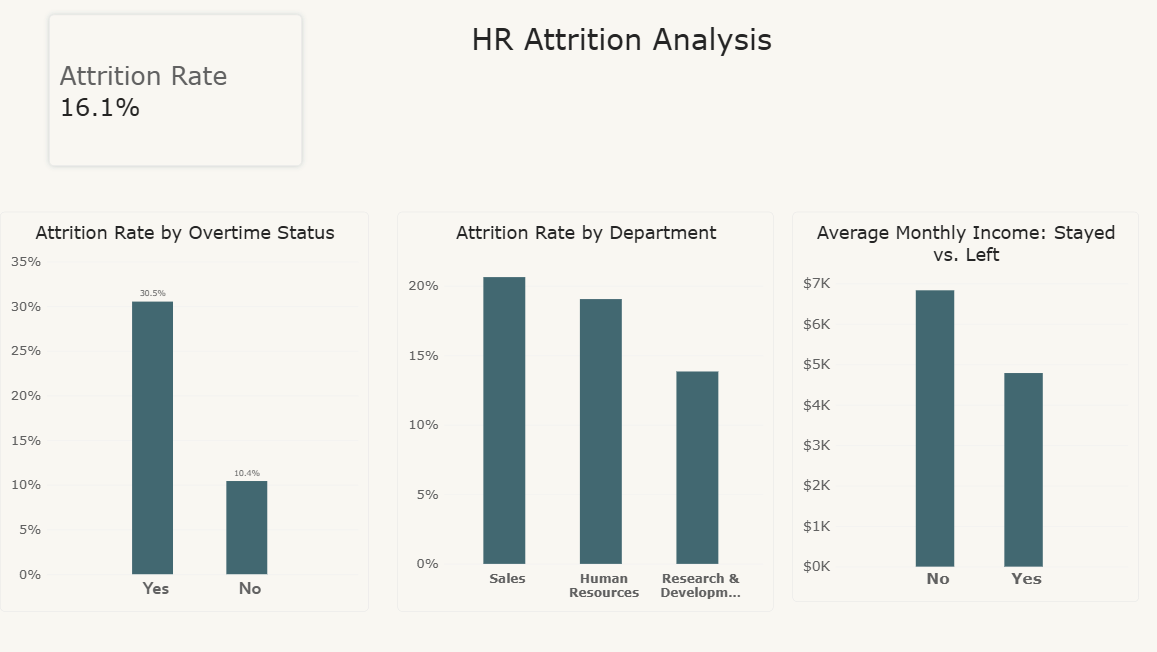

Layout of this report page (visuals, bound fields, positions):
{"tool":"powerbi","page":{"name":"Page 1","canvas":[1920,1080],"ordinal":0},"visuals":[{"type":"cardVisual","fields":{"Data":["HR.Attrition Rate"]},"box":[70,16.5,438.4,271.7],"z":0},{"type":"clusteredColumnChart","title":"Attrition Rate by Overtime Status","fields":{"Category":["HR.OverTime"],"Y":["HR.Attrition Rate"]},"box":[0,352,607.2,658.7],"z":1000},{"type":"clusteredColumnChart","title":"Attrition Rate by Department","fields":{"Category":["HR.Department"],"Y":["HR.Attrition Rate"]},"box":[654.5,352,619.6,658.7],"z":2000},{"type":"clusteredColumnChart","title":"Average Monthly Income: Stayed vs. Left","fields":{"Category":["HR.Attrition"],"Y":["Avg(HR.MonthlyIncome)"]},"box":[1305,352,570.2,642.2],"z":3000},{"type":"textbox","box":[776,37,726.6,160.5],"z":4000}]}

Visuals, with their boxes in screenshot pixels (x1, y1, x2, y2), scaled from the page's 1920x1080 canvas onto the 1157x652 screenshot:
cardVisual - HR.Attrition Rate: box=[42, 10, 306, 174]
"Attrition Rate by Overtime Status" clusteredColumnChart: box=[0, 213, 366, 610]
"Attrition Rate by Department" clusteredColumnChart: box=[394, 213, 768, 610]
"Average Monthly Income: Stayed vs. Left" clusteredColumnChart: box=[786, 213, 1130, 600]
textbox: box=[468, 22, 905, 119]
